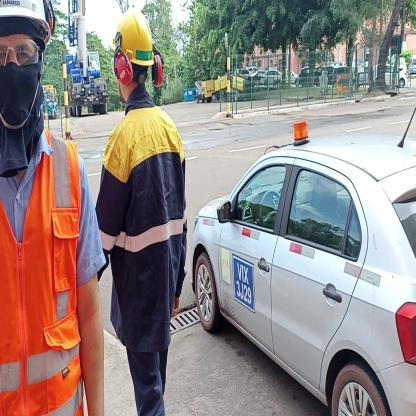Balaclava: (0, 30, 47, 152)
C_eletrica: (107, 106, 184, 332)
Capacete: (111, 9, 158, 68)
colete: (0, 146, 113, 415)
